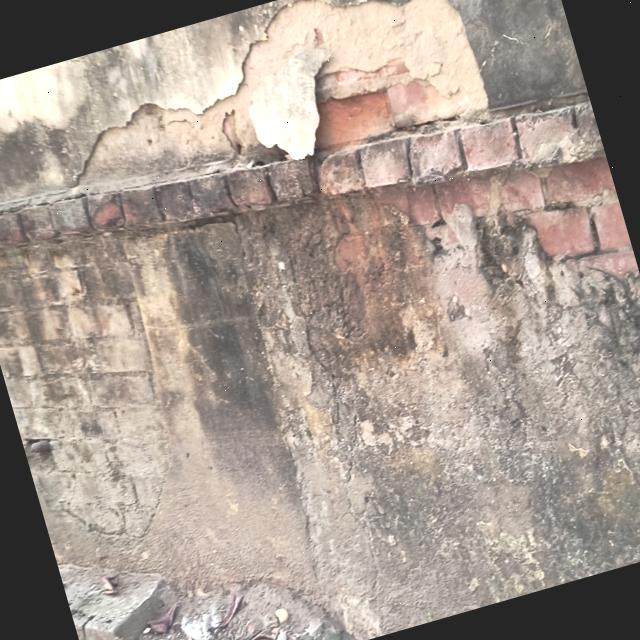Scaling: (72, 0, 490, 187)
exposed brickwork: (0, 100, 640, 541), (313, 57, 452, 146)
pollution -moisture induced blackening: (0, 100, 640, 541), (121, 209, 640, 640), (0, 0, 308, 199), (354, 0, 587, 110)
